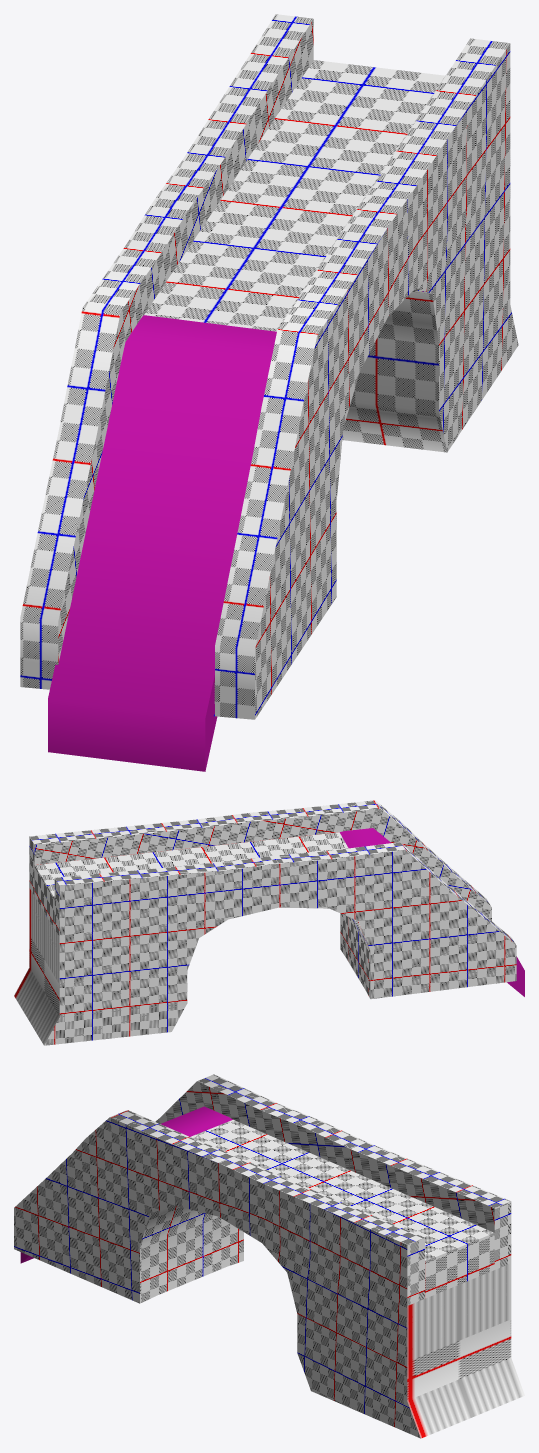
The model's file is bridge.obj.
The picture shows the model from 3 angles, top to bottom: view 1: azimuth 30°, elevation 25°; view 2: azimuth 150°, elevation 25°; view 3: azimuth 270°, elevation 25°; orthographic projection. The views are drawn at different scales.
Parts seen in each view (by area): view 1: bridge.001; view 2: bridge.001; view 3: bridge.001.
Boxes of the visible parts, x1,y1,x2,y2 form: bridge.001: (20,14,518,771); bridge.001: (14,800,524,1045); bridge.001: (14,1074,524,1438).
Size of the model in its own units: 29.41 by 12.68 by 29.01.
